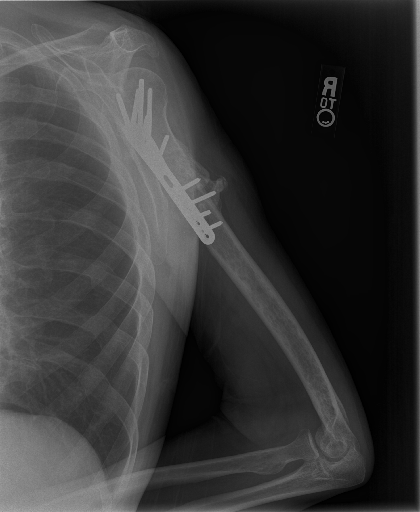implant: (115, 75, 222, 244)
